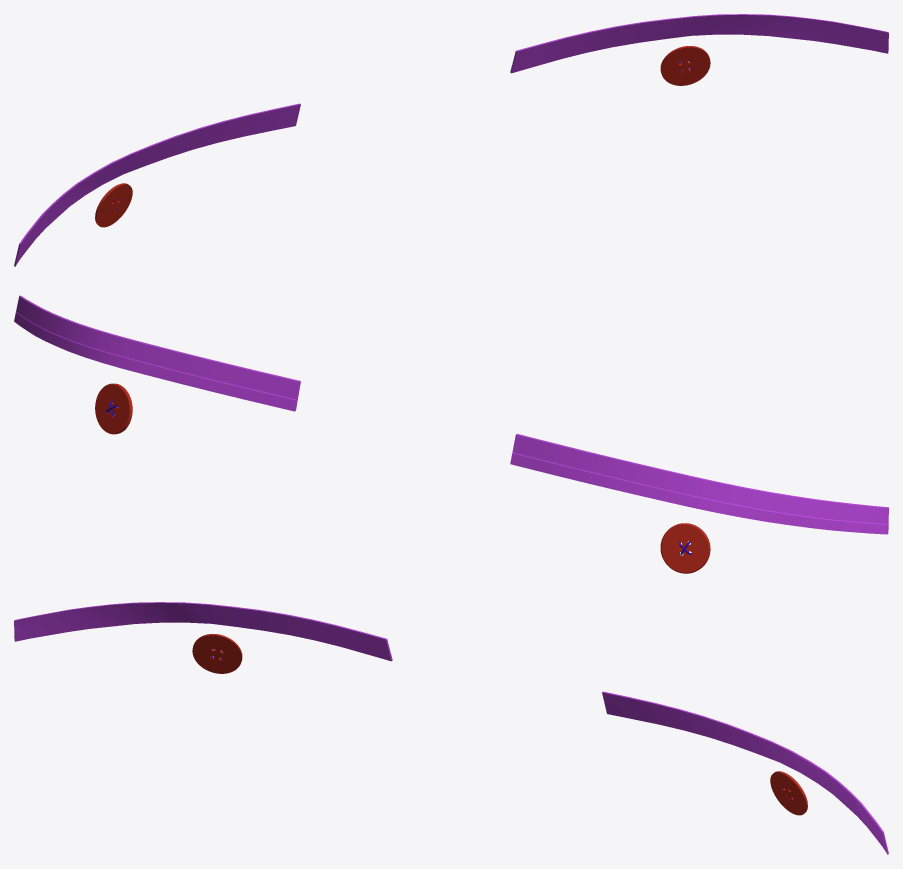
Rendered from SM_CarlosSA_Trousers_BackPockets_2Revolver.fbx.
3 renders of one model, top to bottom at view 1: azimuth 30°, elevation 25°; view 2: azimuth 150°, elevation 25°; view 3: azimuth 330°, elevation 25°, orthographic.
Visible parts, largest first — view 1: SM_CarlosSA_Trousers_BackPockets_2Revolver; view 2: SM_CarlosSA_Trousers_BackPockets_2Revolver; view 3: SM_CarlosSA_Trousers_BackPockets_2Revolver.
Part boxes in pixels (x1=…): SM_CarlosSA_Trousers_BackPockets_2Revolver: x1=14, y1=14, x2=888, y2=266; SM_CarlosSA_Trousers_BackPockets_2Revolver: x1=14, y1=295, x2=888, y2=573; SM_CarlosSA_Trousers_BackPockets_2Revolver: x1=14, y1=602, x2=888, y2=854.
Bounding box in the file's own units: 0.2382 × 0.0227 × 0.0287.
